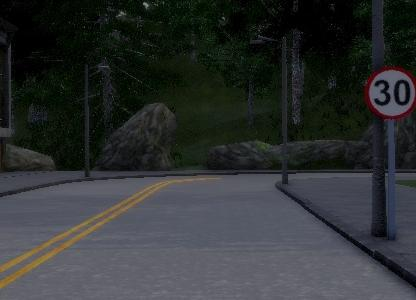Speed_30: (362, 64, 416, 124)
